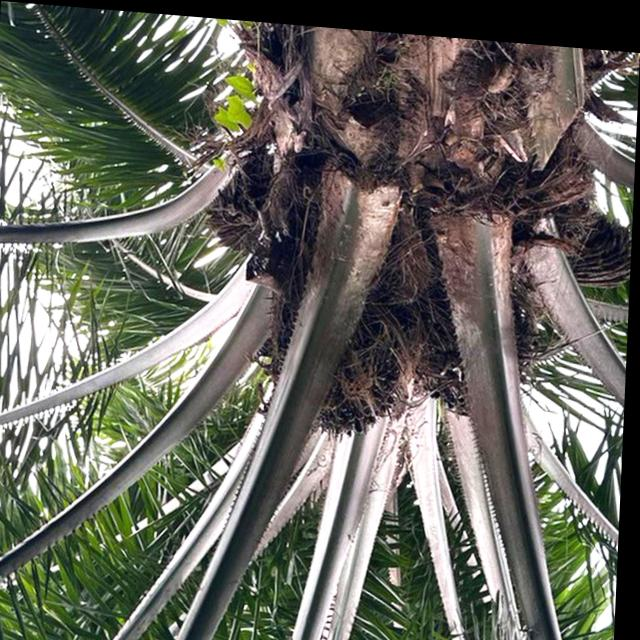unripe: (255, 247, 427, 445), (418, 238, 555, 416)
